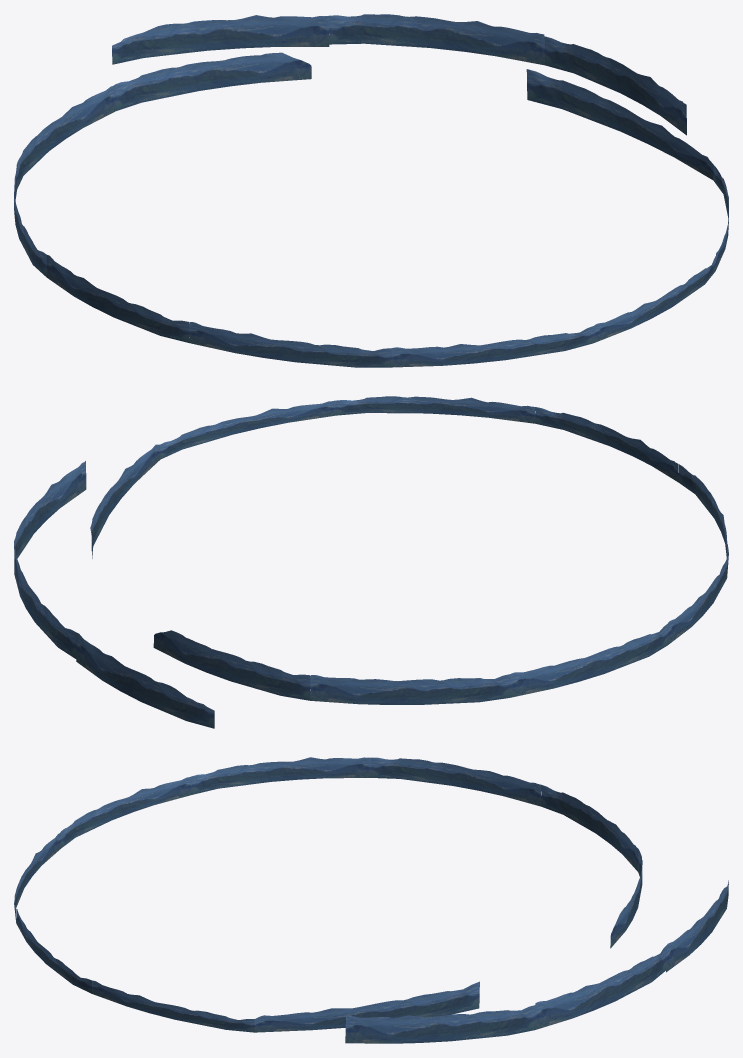
The model's file is Singapore_track_terrain_wall.dae.
3 views of the same model, one above another, from view 1: azimuth 30°, elevation 25°; view 2: azimuth 150°, elevation 25°; view 3: azimuth 270°, elevation 25° (orthographic). The views are drawn at different scales.
Parts seen in each view (by area): view 1: Singapore_track_terrain_wall; view 2: Singapore_track_terrain_wall; view 3: Singapore_track_terrain_wall.
Part boxes in pixels (x1=…): Singapore_track_terrain_wall: x1=14, y1=14, x2=728, y2=367; Singapore_track_terrain_wall: x1=14, y1=396, x2=728, y2=728; Singapore_track_terrain_wall: x1=14, y1=757, x2=728, y2=1043.
Bounding box in the file's own units: 259 × 294 × 14.05.
1 material, 1 textured.
